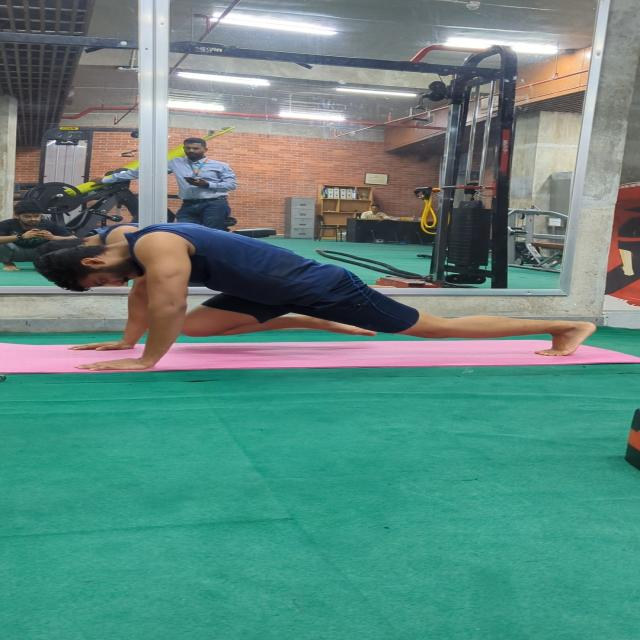Normal_MountainClimbers: (32, 208, 612, 378)
